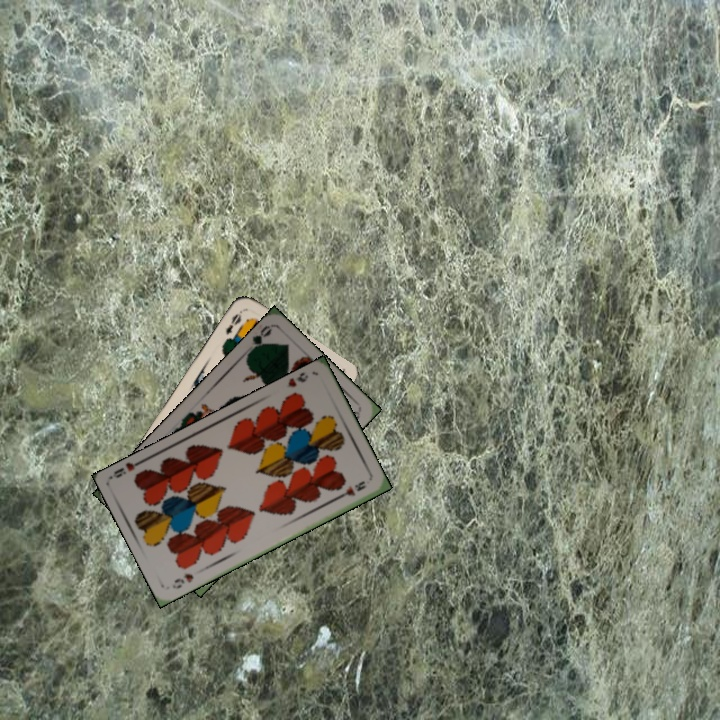EO: (221, 306, 245, 337)
GO: (244, 321, 274, 358)
H9: (168, 569, 196, 592), (284, 370, 311, 390)
